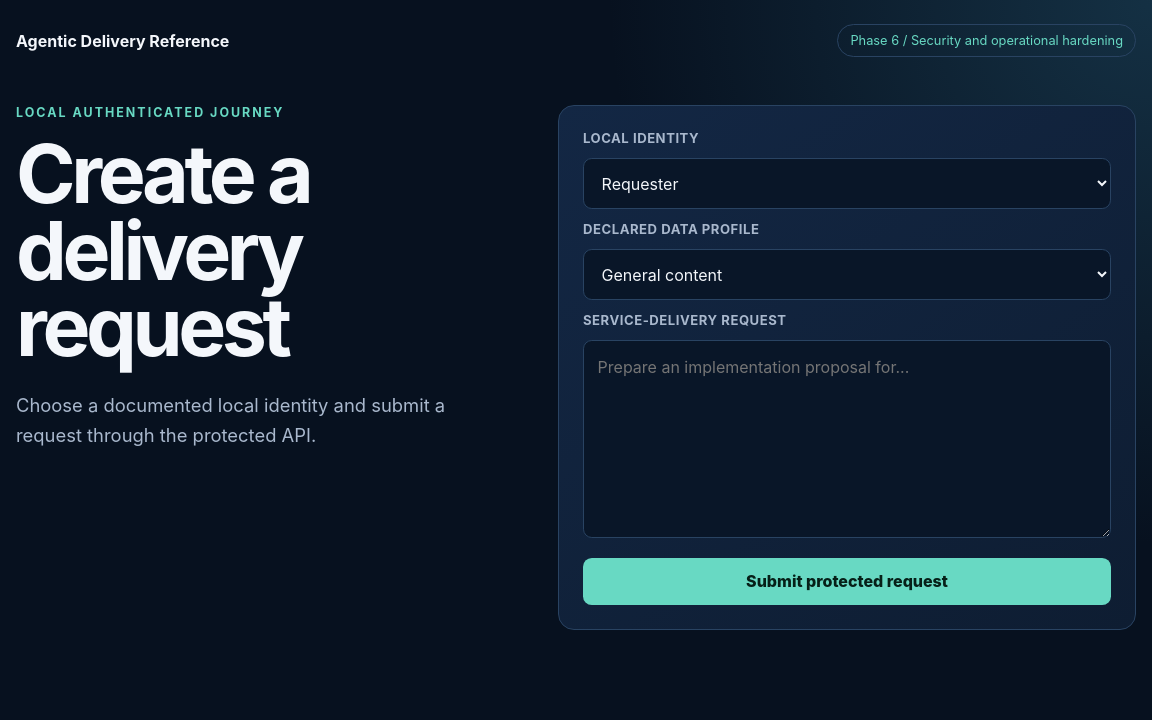
Test: governed delivery request page › shows an actionable API problem and clears an earlier result
Type "Prepare a delivery proposal" into the text box labelled "Service-delivery request" at (847, 439), box [583,340,1111,538]
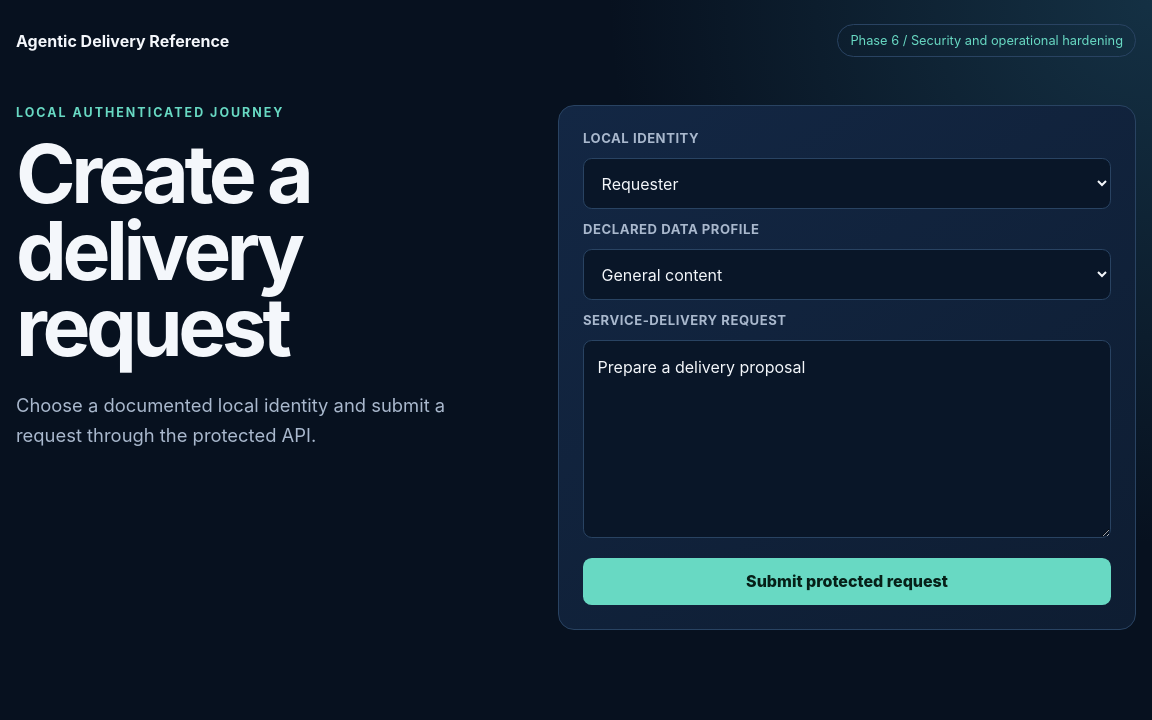
Submit the form, box [558,105,1136,630]
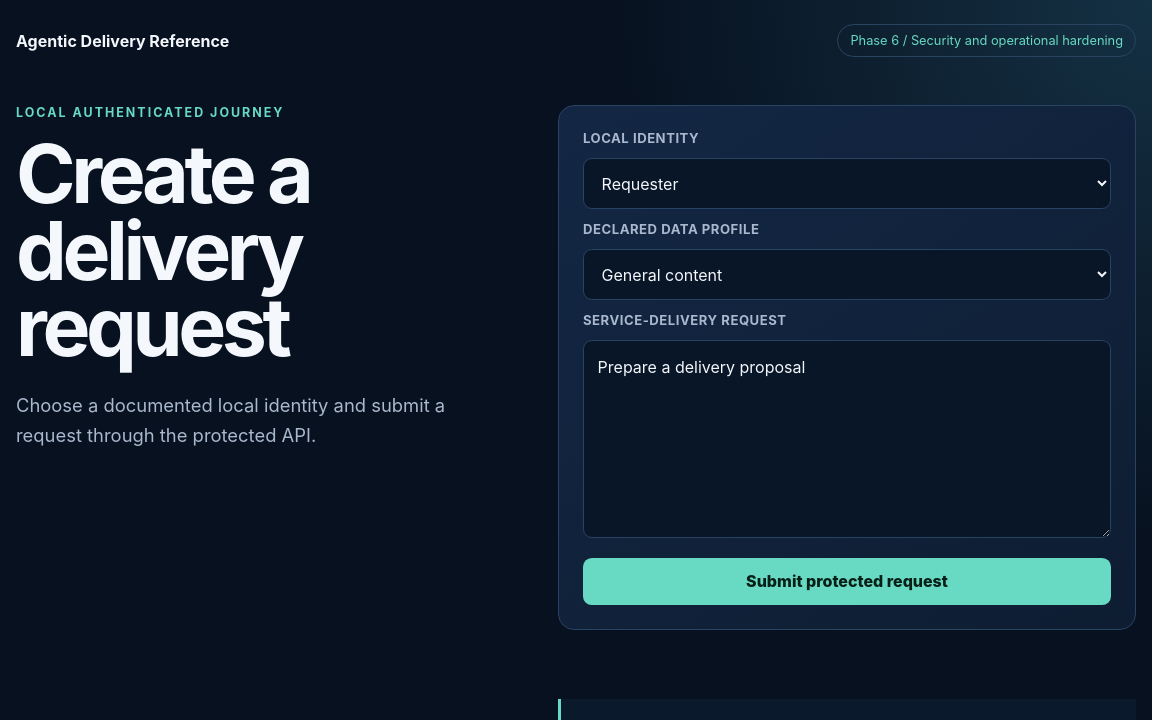
Replace the text in the text box labelled "Service-delivery request" with "Prepare another delivery proposal" at (847, 439), box [583,340,1111,538]
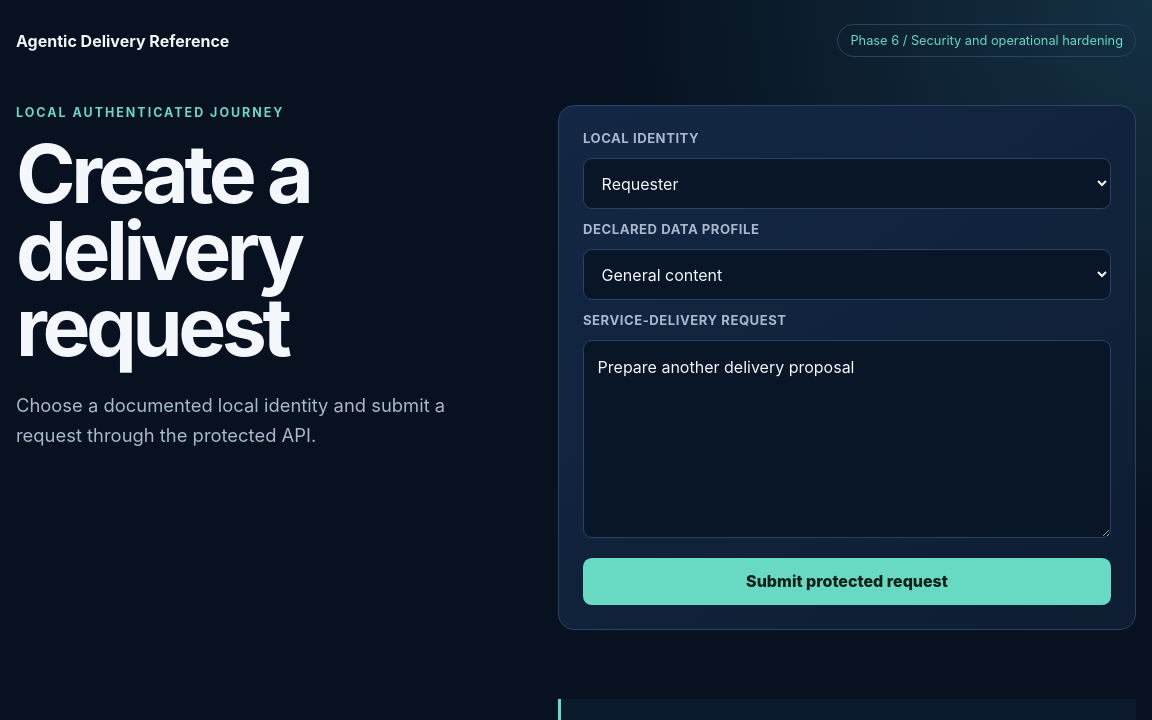
Submit the form, box [558,105,1136,630]
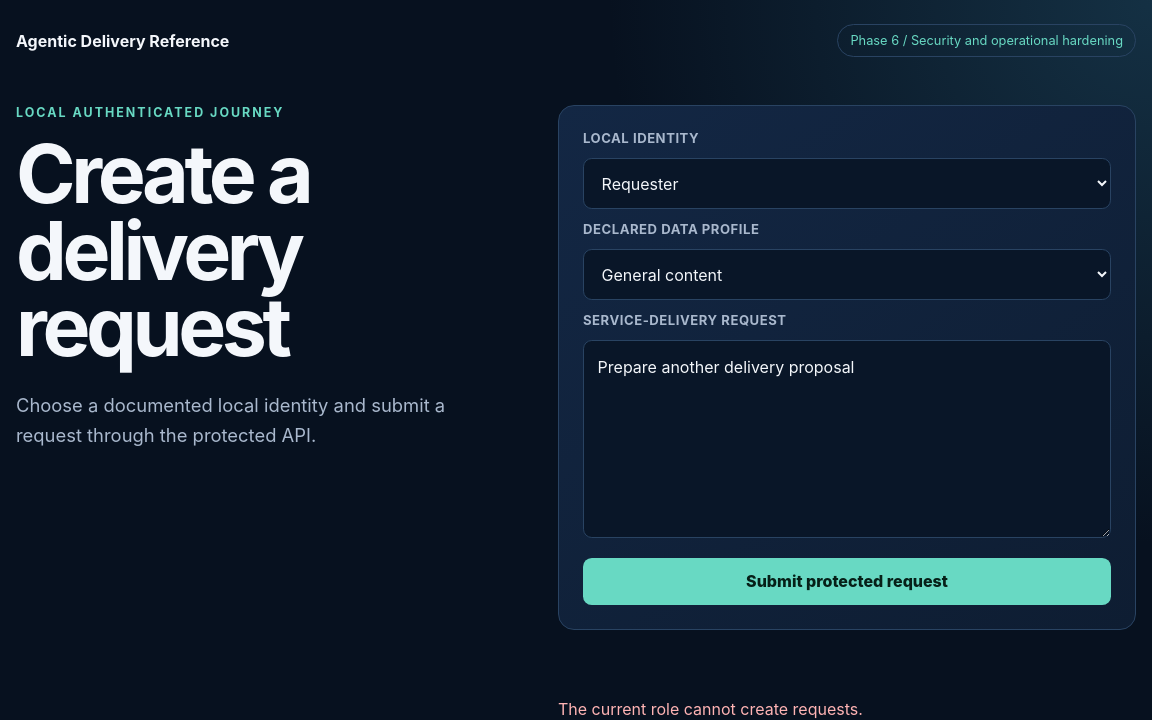
Result: the text "The current role cannot create requests." is shown at [558,699,863,719]
